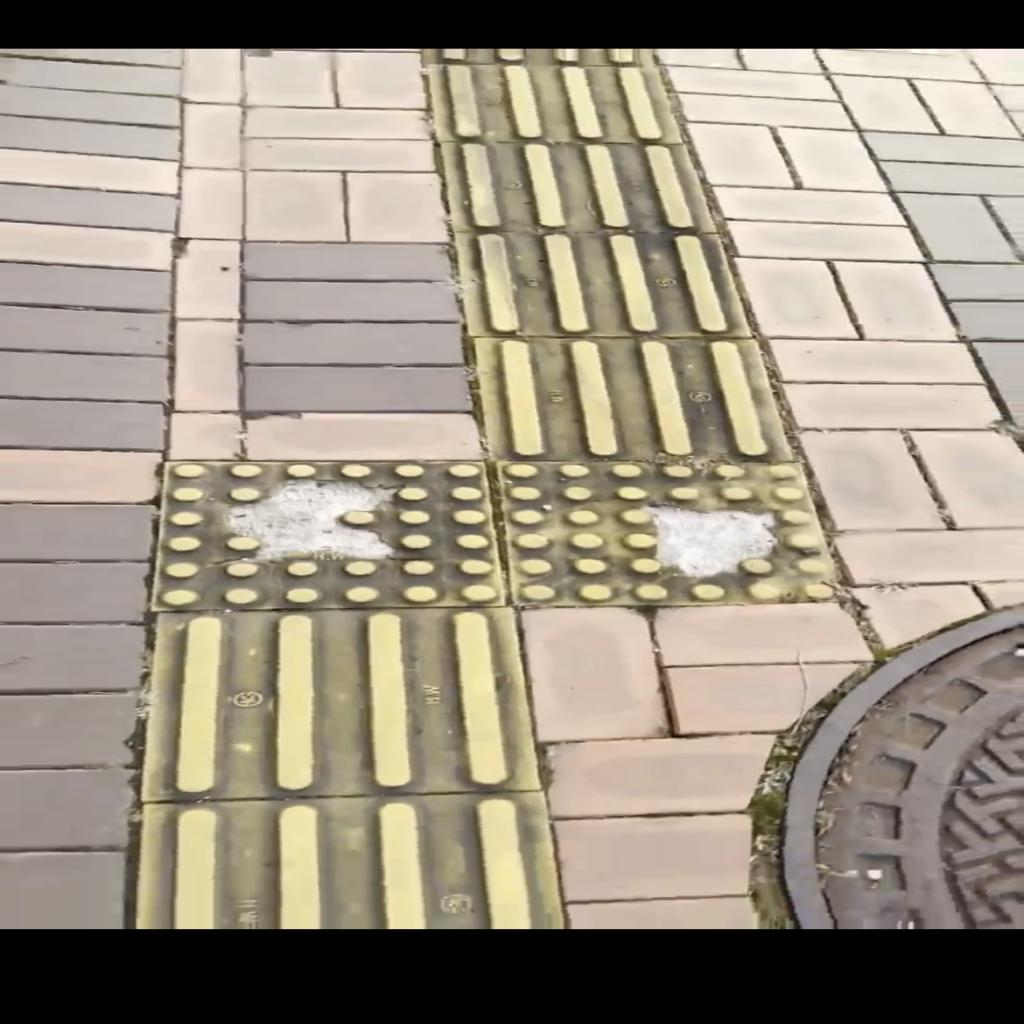Stop block broken: (150, 456, 505, 610), (497, 455, 846, 606)
Straight block normal: (138, 602, 542, 800), (475, 339, 798, 461), (456, 234, 752, 334), (454, 144, 695, 232)
